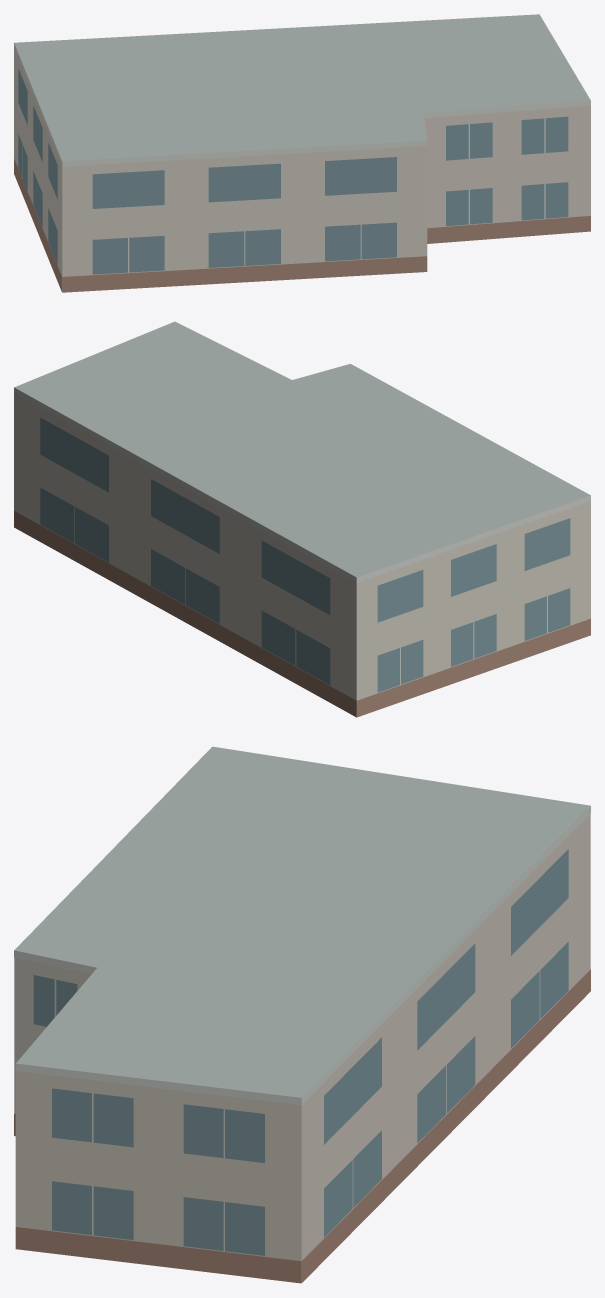
Rendered from survey-upis-32474603.glb.
3 views of the same model, one above another, from view 1: azimuth 30°, elevation 25°; view 2: azimuth 150°, elevation 25°; view 3: azimuth 270°, elevation 25° (orthographic). The views are drawn at different scales.
Visible parts, largest first — view 1: survey-upis-32474603.tmp; view 2: survey-upis-32474603.tmp; view 3: survey-upis-32474603.tmp.
Boxes of the visible parts, <box> form: survey-upis-32474603.tmp: <box>14,14,590,292</box>; survey-upis-32474603.tmp: <box>14,321,590,717</box>; survey-upis-32474603.tmp: <box>14,746,590,1283</box>.
Size of the model in its own units: 24.78 by 6.1 by 17.19.
